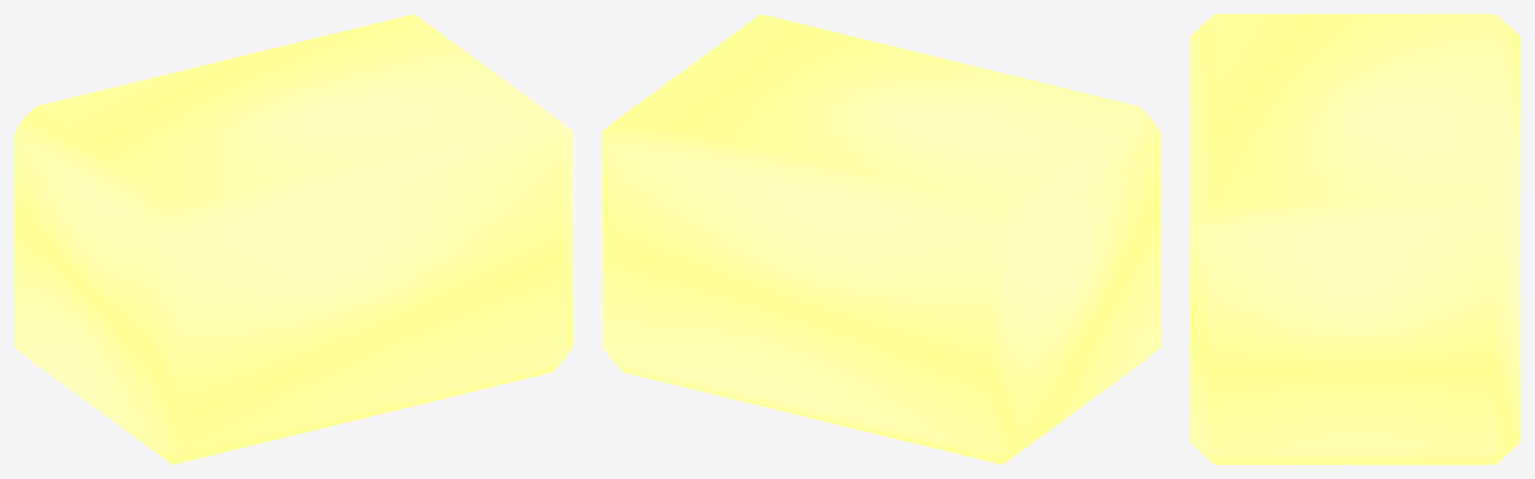
Rendered from Neon_Puerta_Luz.fbx.
3 views of the same model, side by side, from view 1: azimuth 30°, elevation 25°; view 2: azimuth 150°, elevation 25°; view 3: azimuth 270°, elevation 25° (orthographic).
Parts seen in each view (by area): view 1: Puerta_Luz; view 2: Puerta_Luz; view 3: Puerta_Luz.
Part boxes in pixels (x1,y1,x2,y2): Puerta_Luz: (14, 14, 573, 464); Puerta_Luz: (602, 14, 1161, 464); Puerta_Luz: (1190, 14, 1520, 464).
Size of the model in its own units: 0.6 by 0.35 by 0.4.
